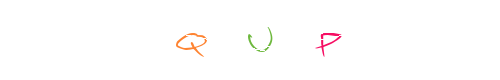8: (170, 0, 250, 80)
P: (288, 0, 368, 80)
Q: (209, 0, 289, 80)
U: (220, 0, 300, 80)
